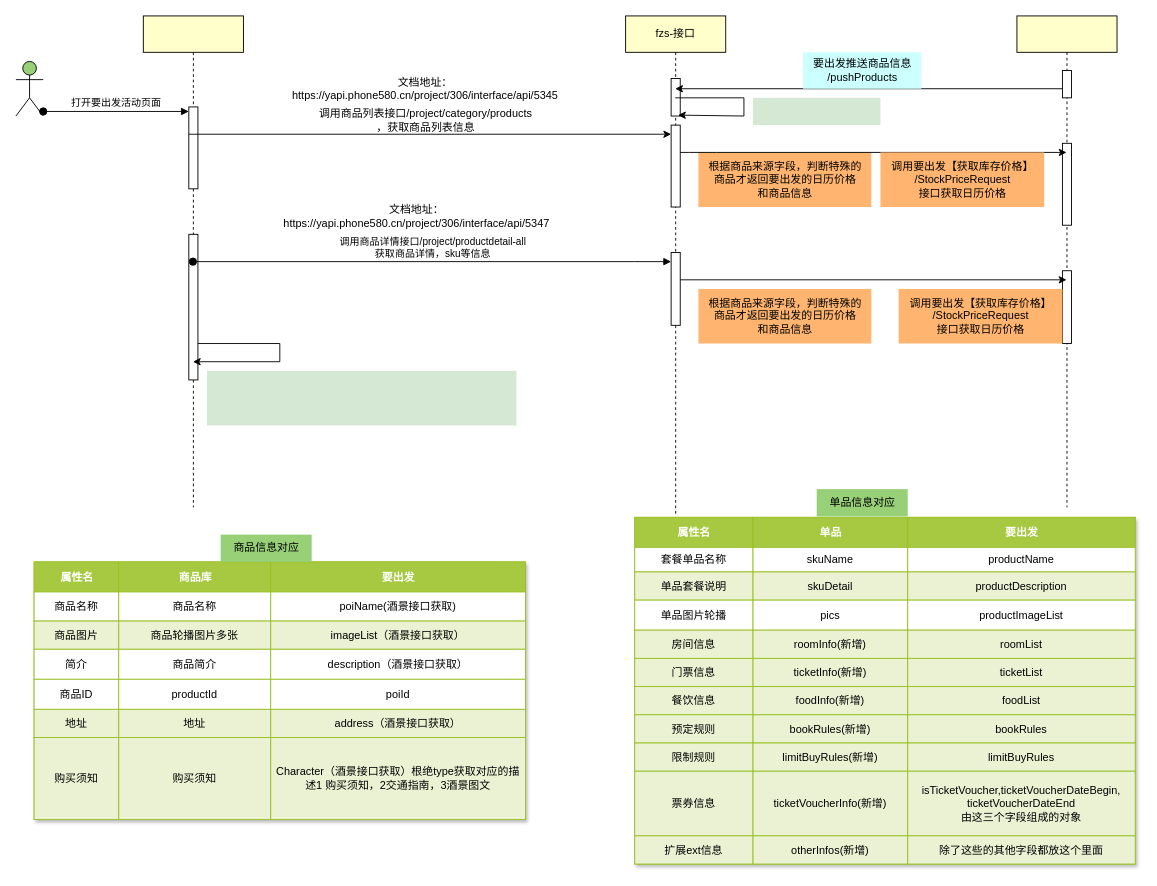
This 1157x886 diagram has some shape labels left out. Each missing label, with the centre of its shape:
fzs前端: (x=192, y=261)
保存推送数据到mongo: (x=816, y=111)
商品简介和一些额外的字段，需要调用【新增的】 获取酒景 接口/fzs-product-api/project/getproductpoiinfo接口 获取: (x=361, y=397)
用户: (x=29, y=88)
要出发-接口: (x=1066, y=261)
